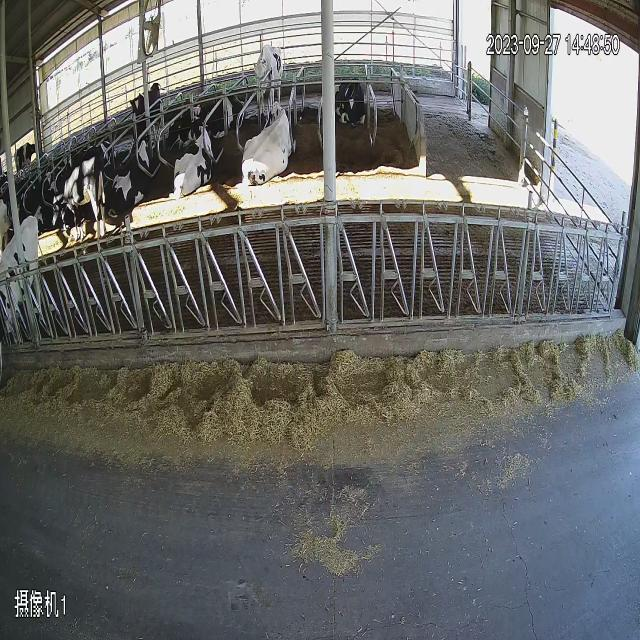feeding: (172, 86, 308, 224)
lying down: (314, 44, 382, 182), (110, 130, 160, 234)
standing: (36, 131, 110, 262), (2, 166, 43, 340), (250, 15, 282, 130), (122, 59, 168, 131), (8, 118, 42, 194)
